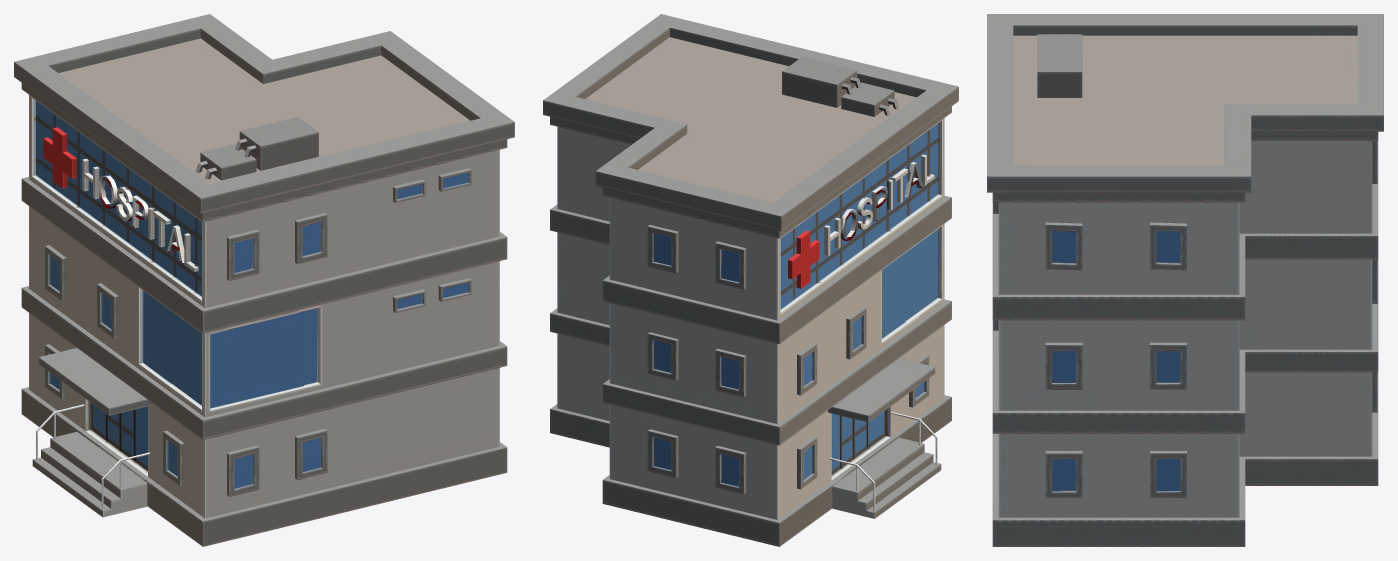
The model's file is Clinic.glb.
The picture shows the model from 3 angles, left to right: view 1: azimuth 30°, elevation 25°; view 2: azimuth 150°, elevation 25°; view 3: azimuth 270°, elevation 25°; orthographic projection. The views are drawn at different scales.
Parts seen in each view (by area): view 1: Plane001; view 2: Plane001; view 3: Plane001.
Part boxes in pixels (bbox=[...]): Plane001: bbox=[14, 14, 514, 546]; Plane001: bbox=[543, 14, 958, 546]; Plane001: bbox=[987, 14, 1383, 546].
Bounding box in the file's own units: 4.86 × 4.8 × 4.45.
Materials: 1 (1 with a texture image).
